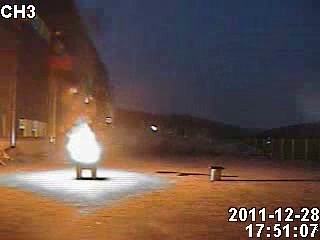fire: (67, 114, 99, 166)
